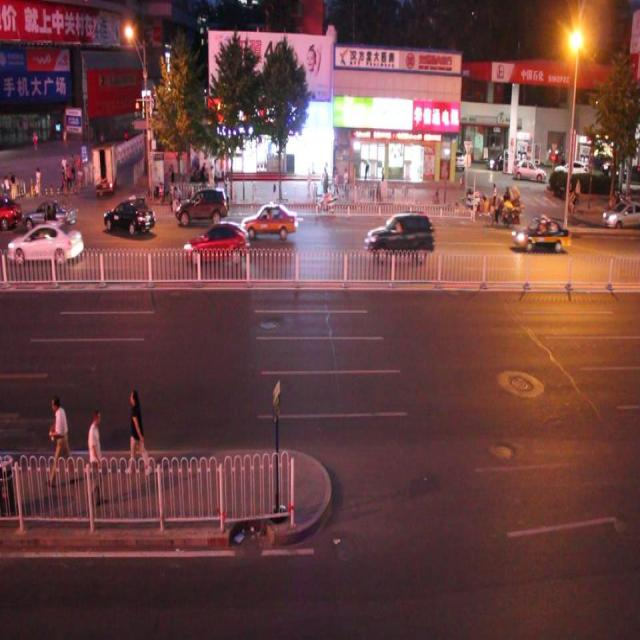car: (364, 210, 435, 262), (10, 220, 84, 264), (182, 218, 248, 264), (175, 186, 229, 232), (240, 200, 297, 241), (104, 195, 157, 238), (511, 215, 569, 253), (21, 198, 78, 235), (600, 194, 640, 229)
